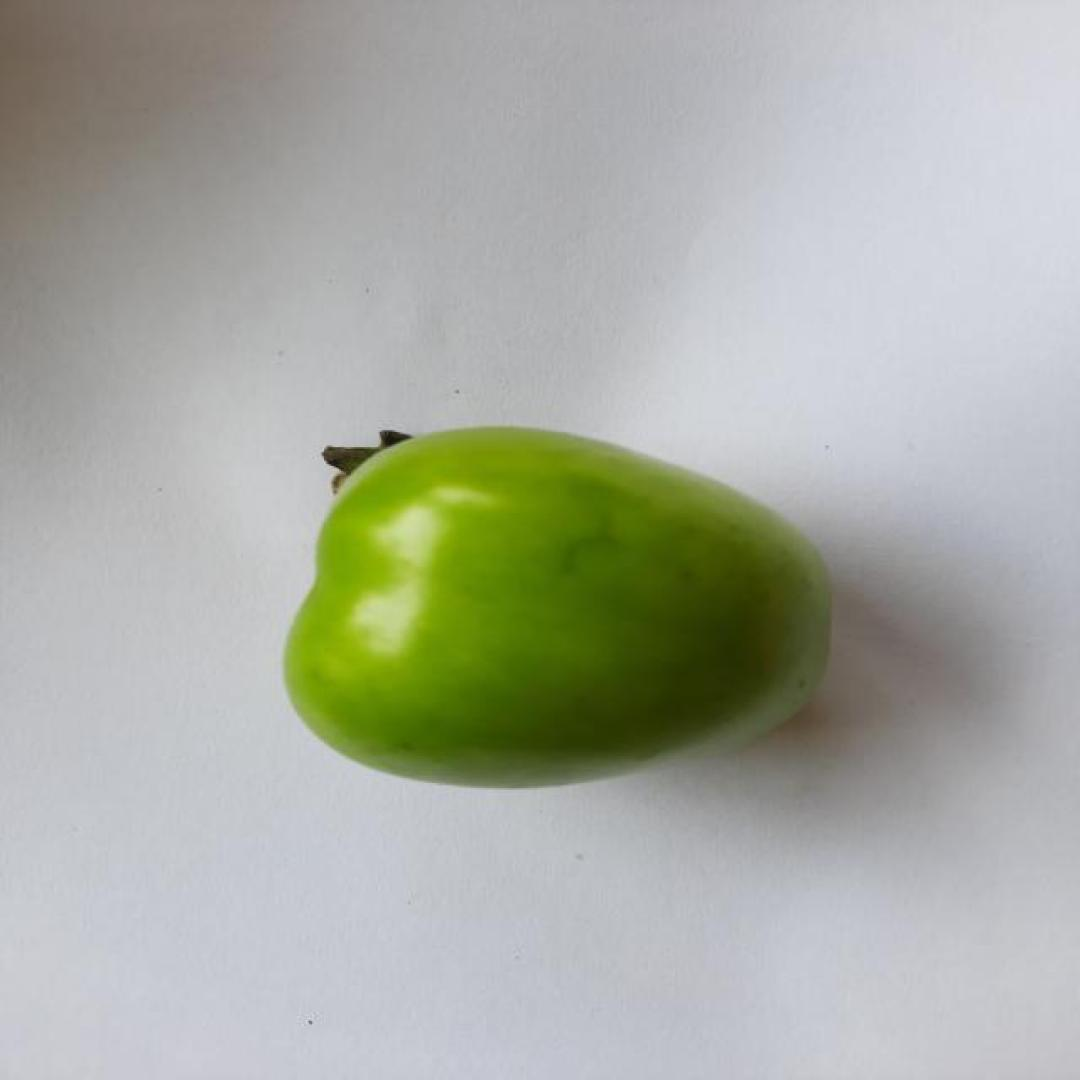mentah: (282, 424, 837, 794)
